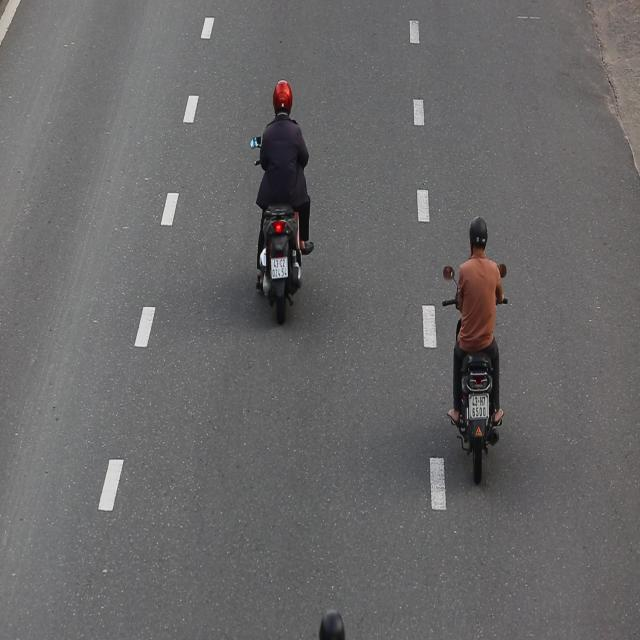motorbike: (442, 214, 512, 492), (250, 76, 318, 326)
